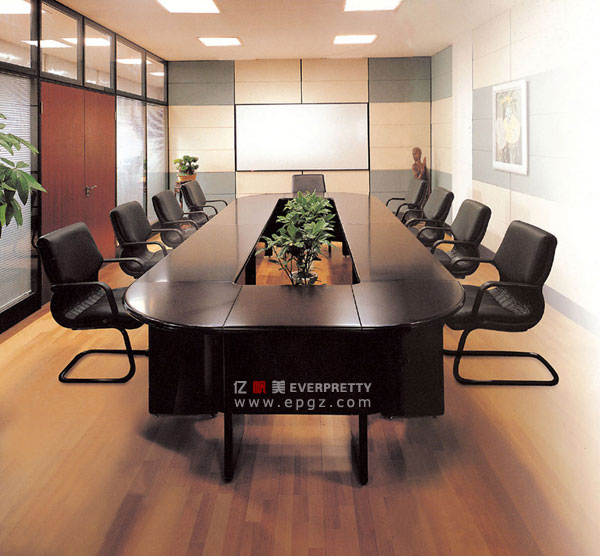conference_table: (121, 193, 465, 485)
